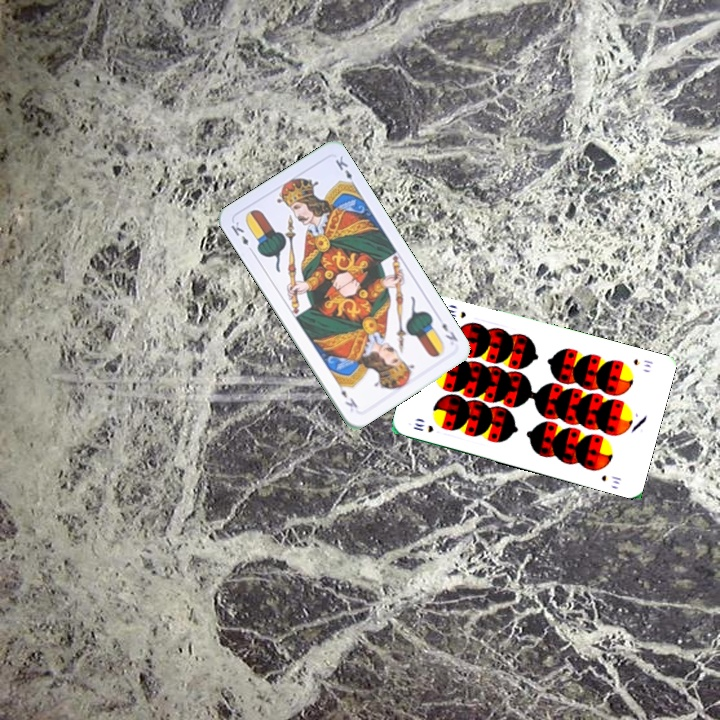EK: (227, 218, 256, 255), (438, 319, 460, 344)
S10: (409, 419, 436, 435), (629, 355, 655, 370)
